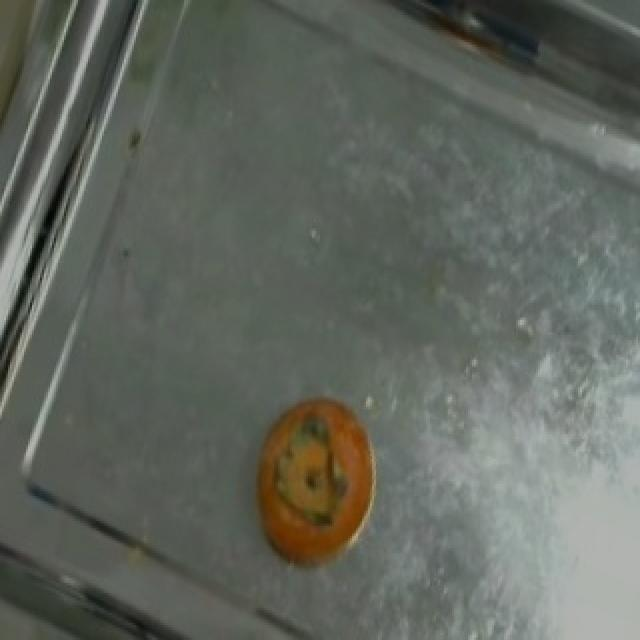Fruit: (234, 377, 398, 588)
